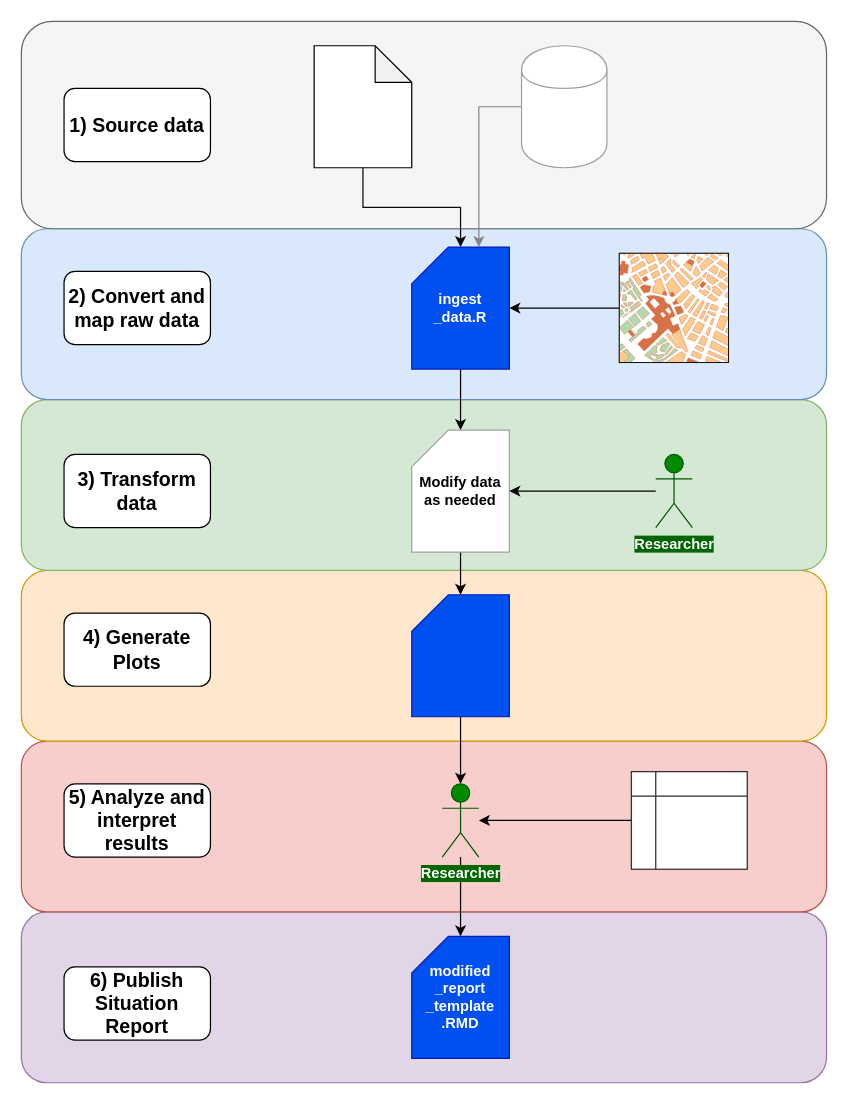
The diagram is 848 pixels wide and 1104 high, and some of its shapes have lost their labels. The shapes that lost their labels are listed below. From the top down, each one's centre as x and y in pixels, then its label:
At [362,106]: "Raw Data Sources".
At [563,106]: "COVID-19 MDN Data Store".
At [673,307]: "Spatial Data".
At [460,655]: "standard _plots.R".
At [688,819]: "Other Data Sources".
